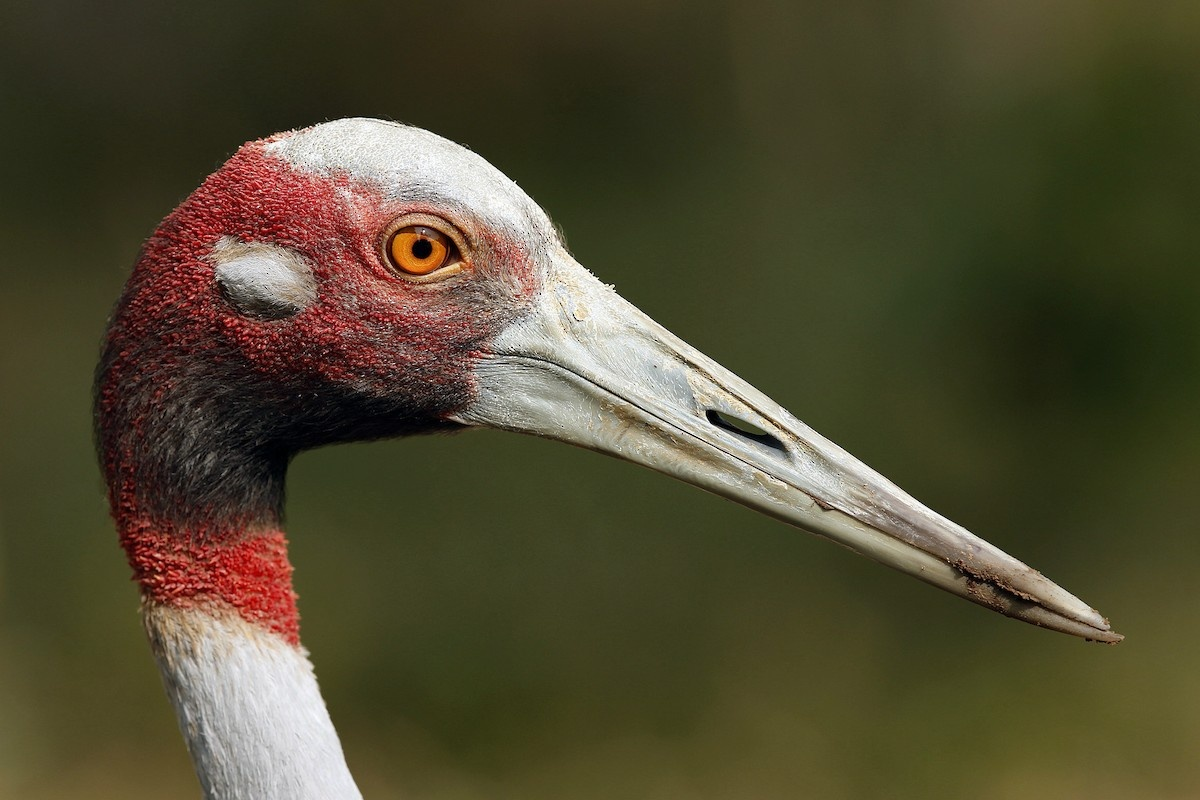crane: (59, 109, 1143, 797)
